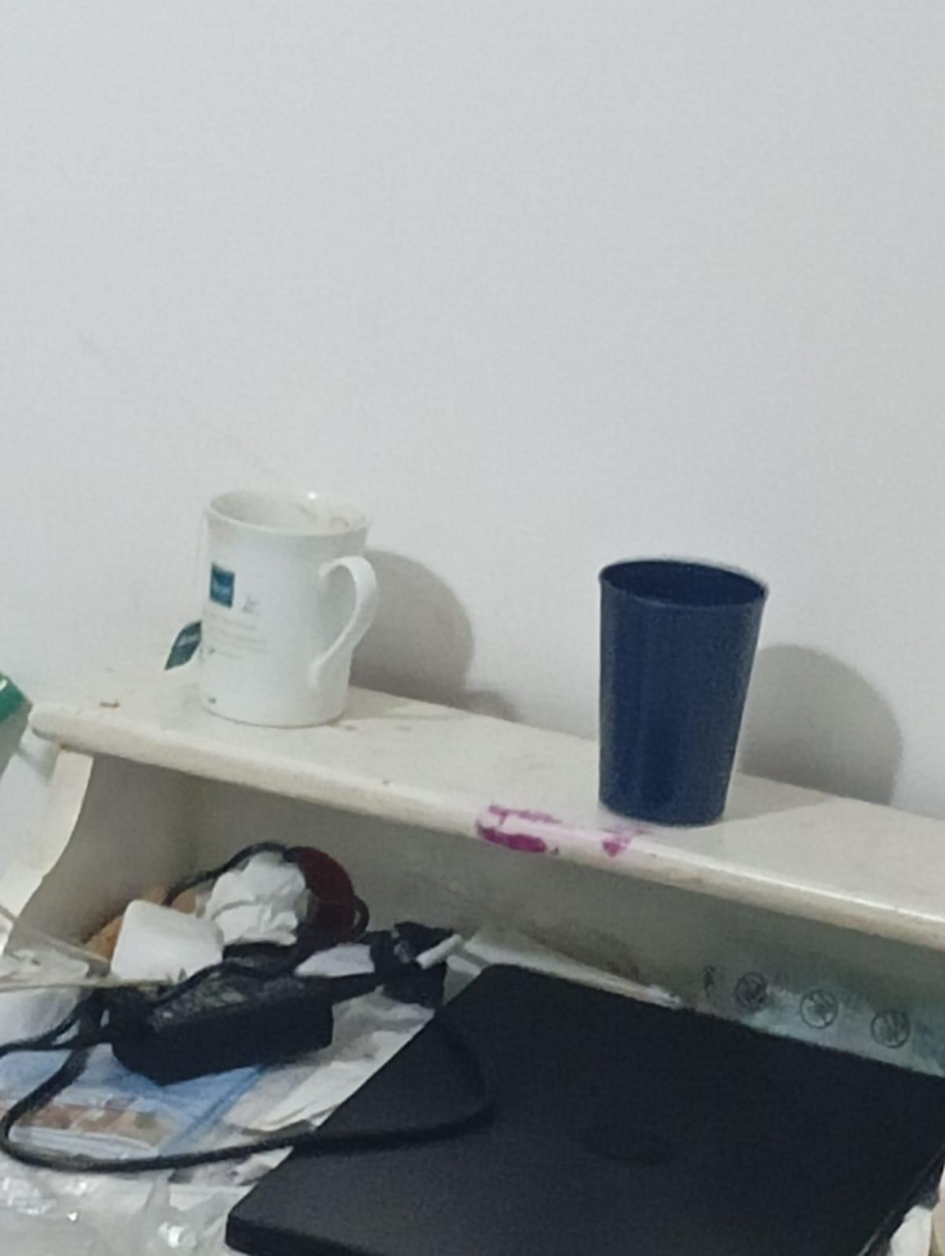cup: (600, 560, 766, 824), (199, 490, 377, 725)
